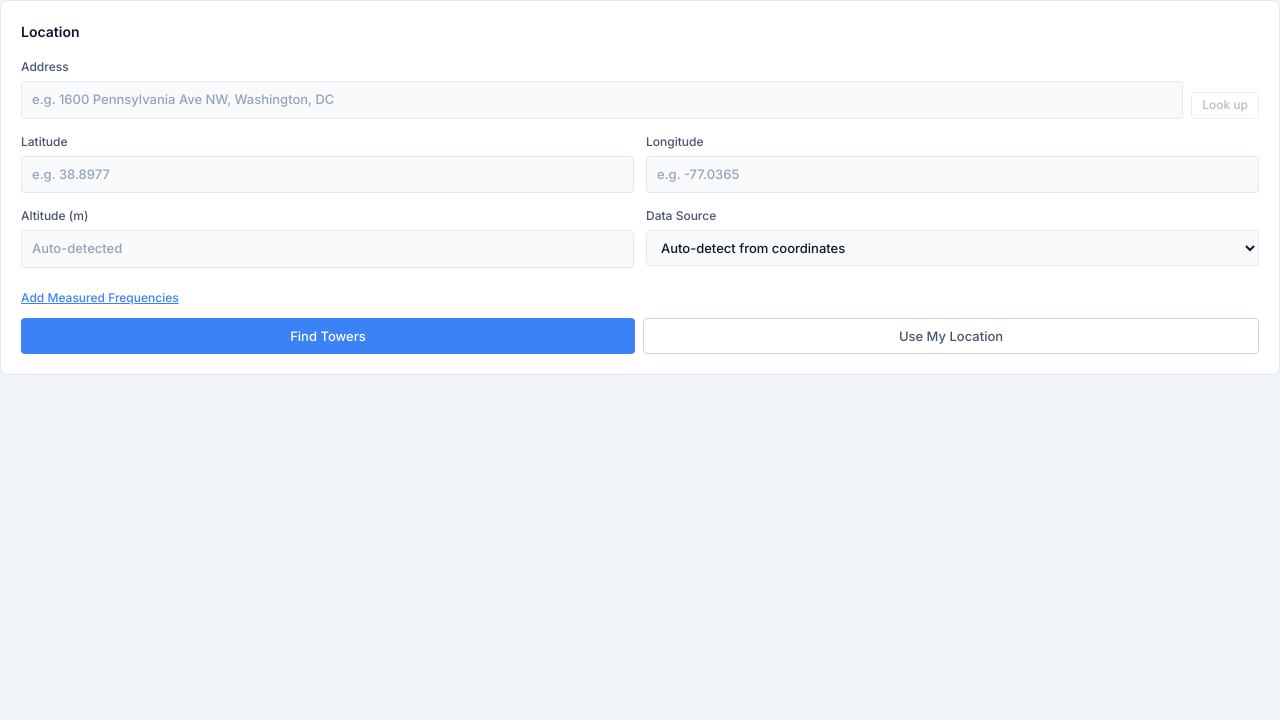
SearchForm measured frequencies › says how many frequencies are set once the section is collapsed
Click the button "Add Measured Frequencies": (100,298) [21,288,179,306]
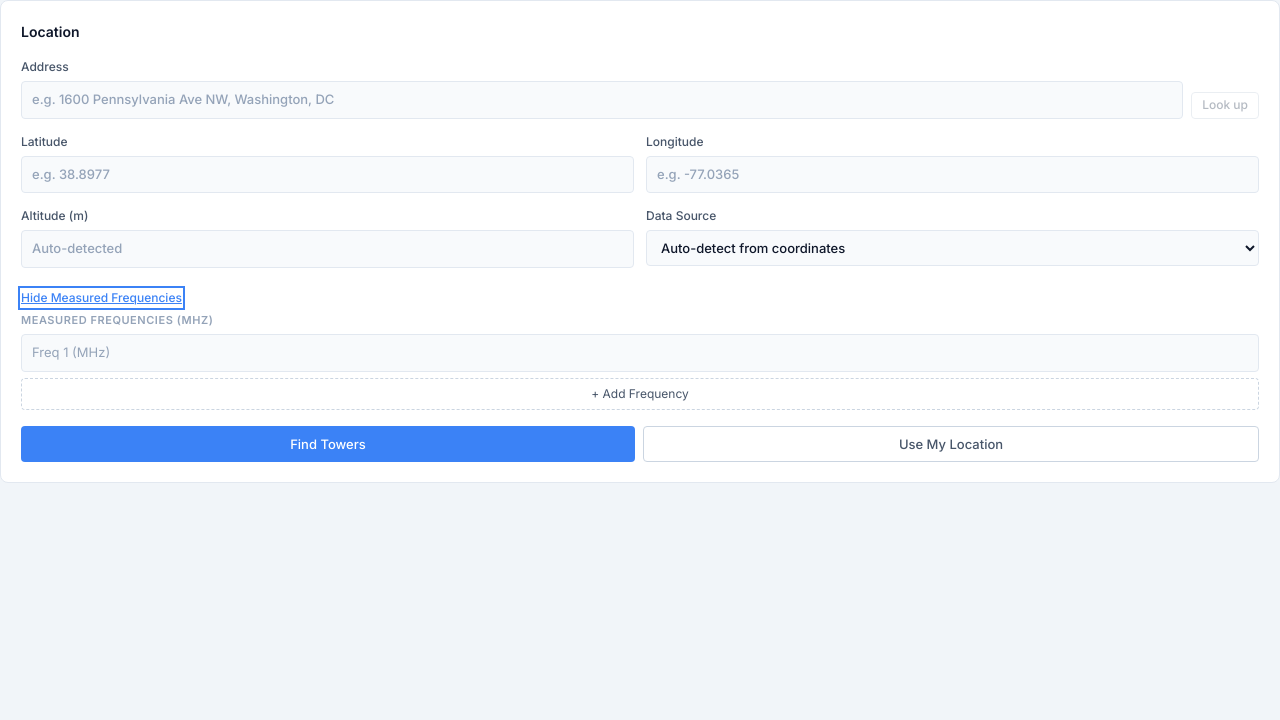
Click the button "+ Add Frequency": (640,394) [21,378,1259,410]
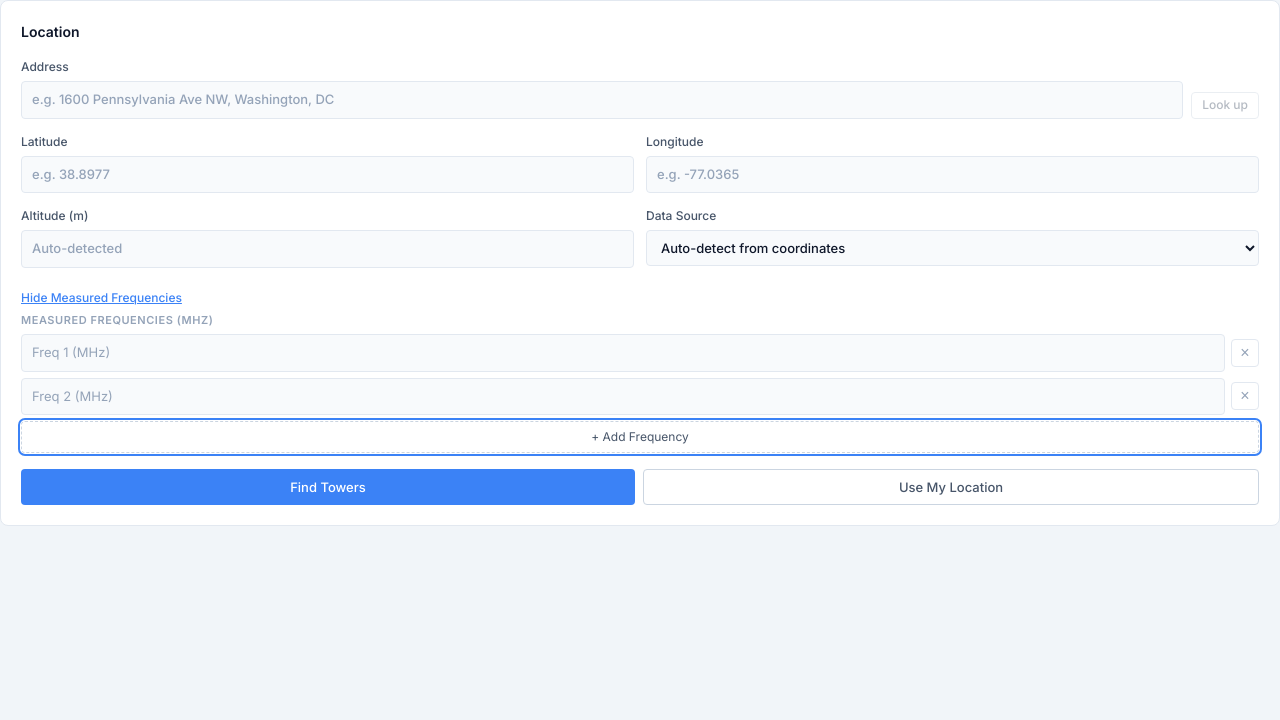
In the number field named "frequency 1": (623,353) [21,334,1225,372], type "95.5"
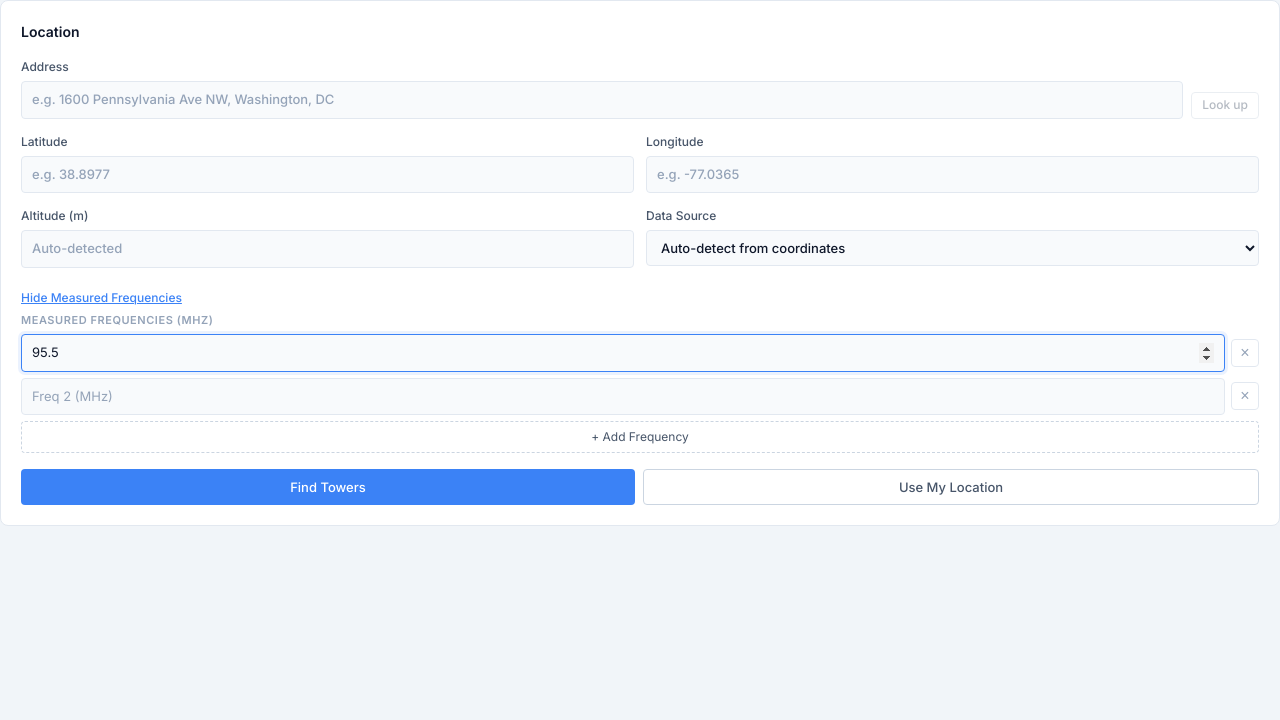
In the number field named "frequency 2": (623,396) [21,378,1225,415], type "101.1"
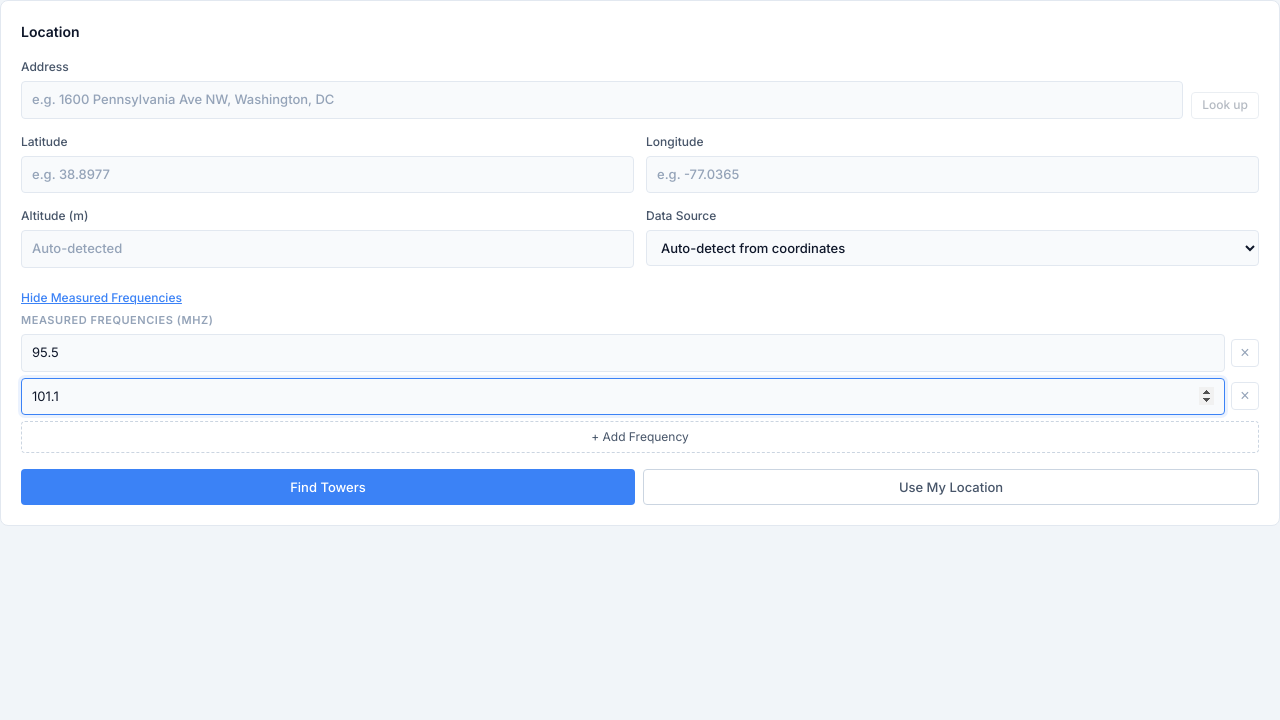
Click the button "Hide Measured Frequencies": (101,298) [21,288,182,306]
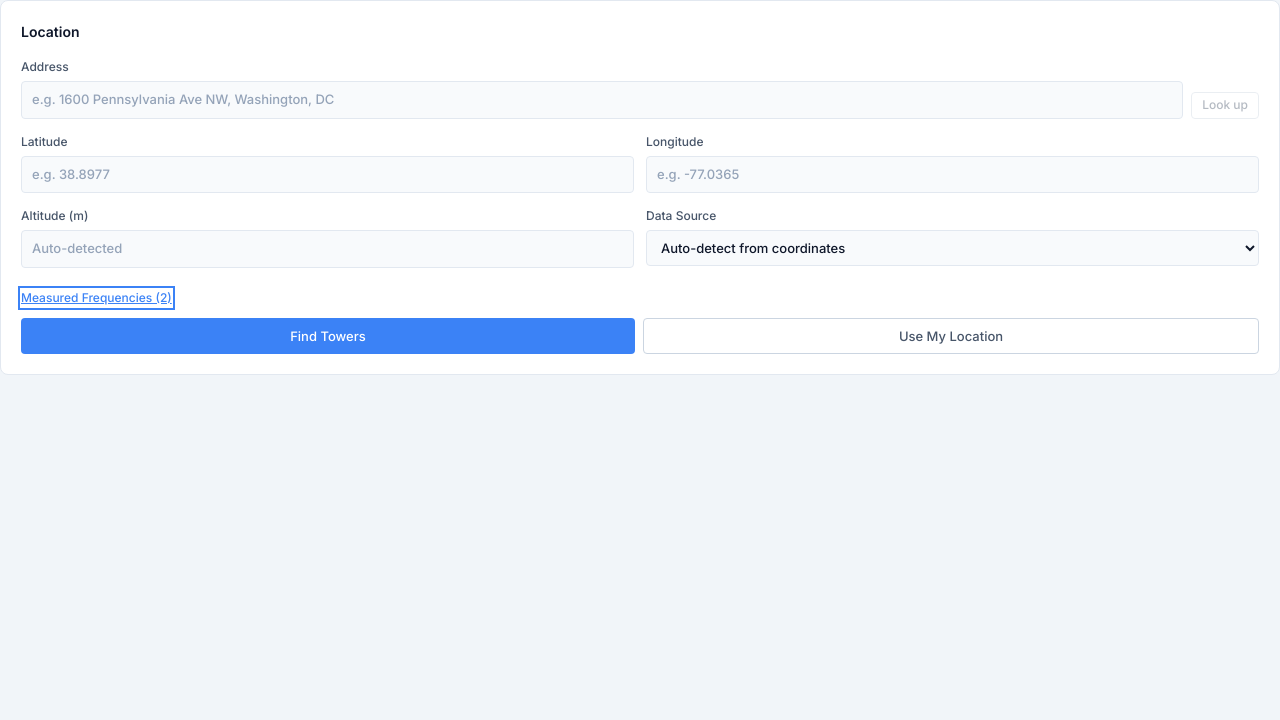
Expected: the button "Measured Frequencies (2)" is shown, [21,288,172,306]
